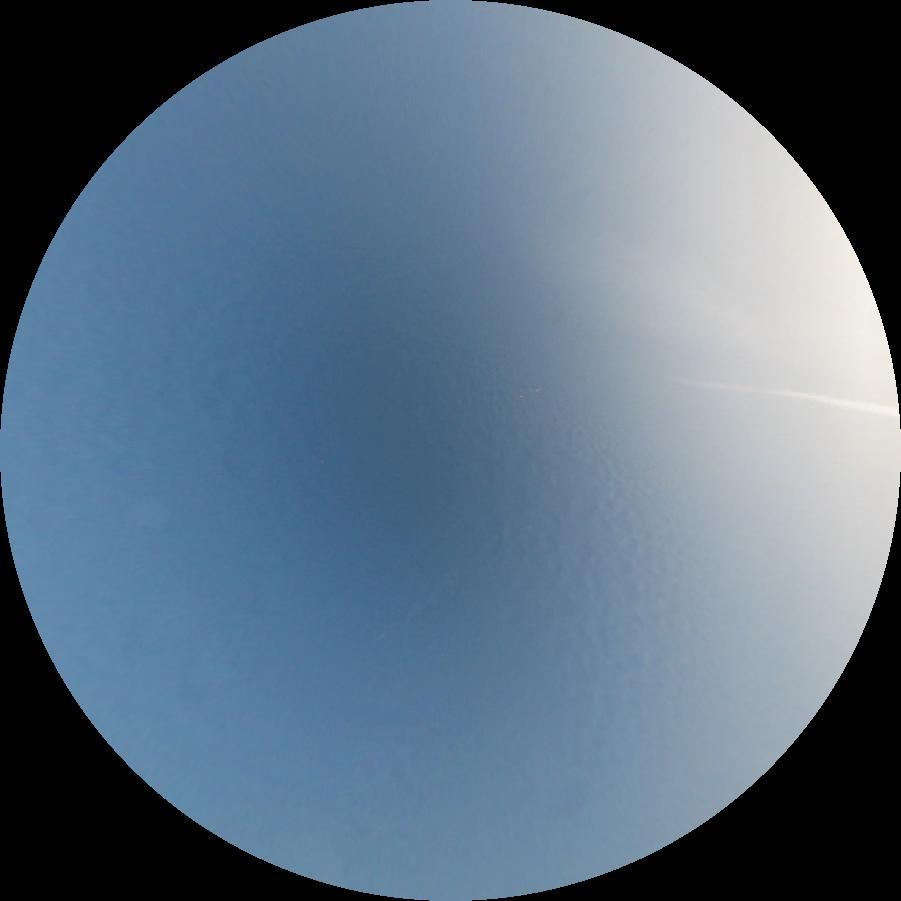contrail old: (678, 378, 900, 418), (371, 601, 423, 645)
